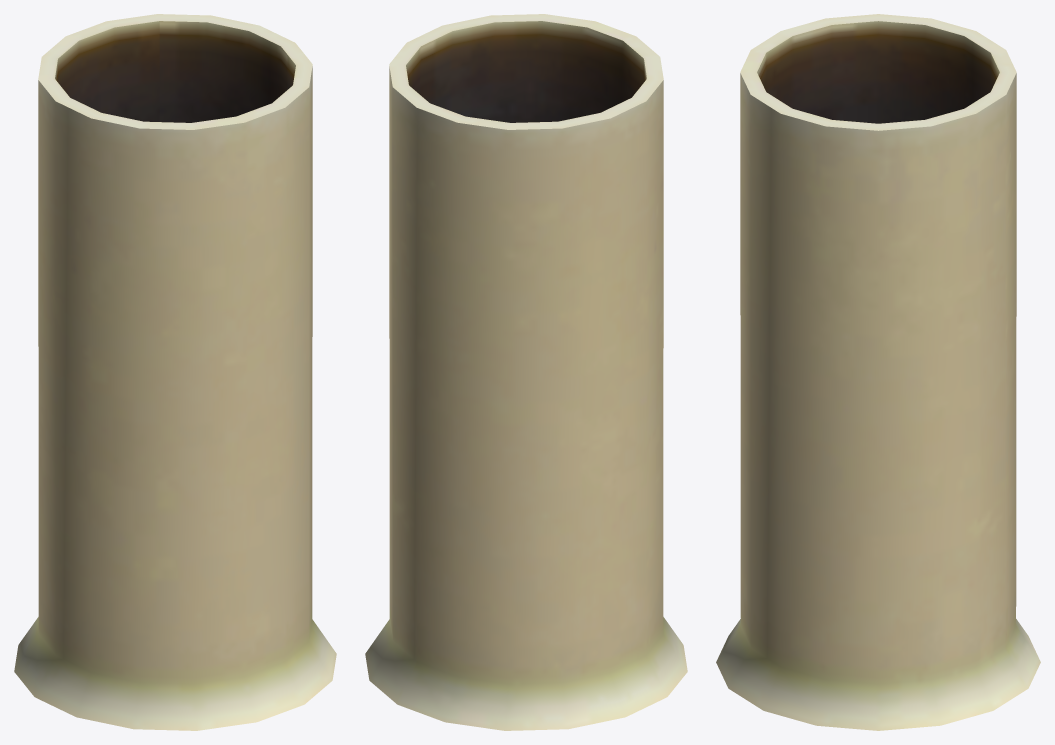
File: SM_Ammo_01b.glb
3 views of the same model, side by side, from view 1: azimuth 30°, elevation 25°; view 2: azimuth 150°, elevation 25°; view 3: azimuth 270°, elevation 25° (orthographic).
Parts seen in each view (by area): view 1: SM_Ammo_01b; view 2: SM_Ammo_01b; view 3: SM_Ammo_01b.
Part boxes in pixels (x1=…): SM_Ammo_01b: x1=14, y1=14, x2=336, y2=730; SM_Ammo_01b: x1=365, y1=14, x2=687, y2=730; SM_Ammo_01b: x1=716, y1=14, x2=1040, y2=730.
Size of the model in its own units: 0.00704 by 0.0141 by 0.00704.
Materials: 1 (1 with a texture image).
